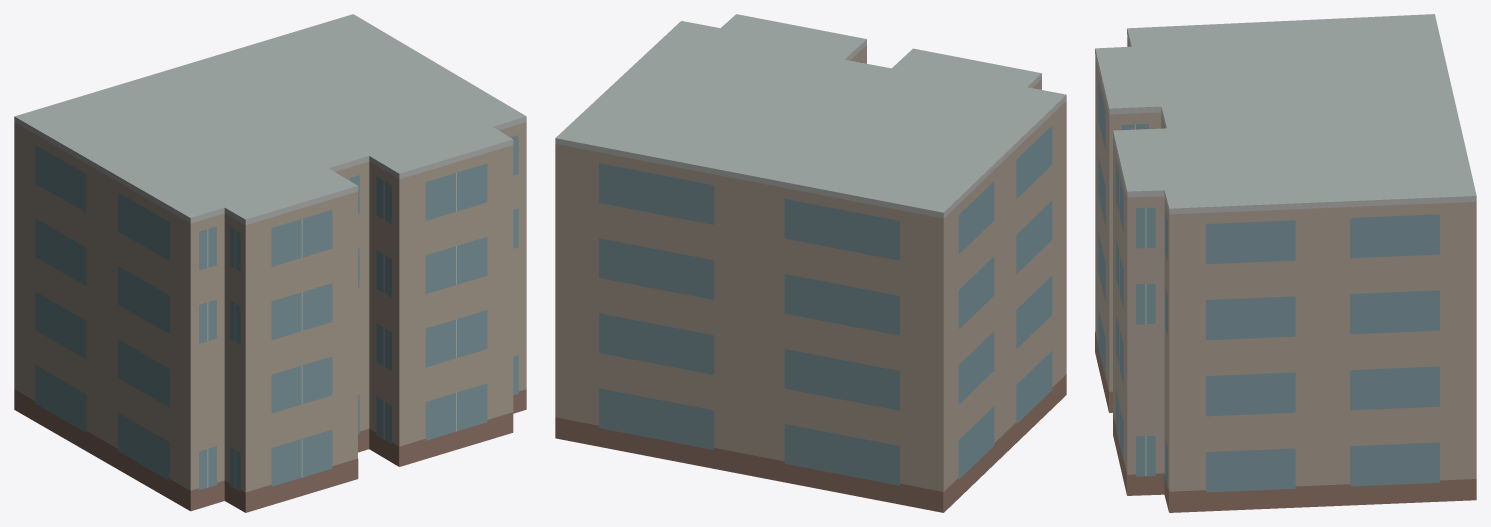
File: survey-upis-32661368.glb
The picture shows the model from 3 angles, left to right: view 1: azimuth 30°, elevation 25°; view 2: azimuth 150°, elevation 25°; view 3: azimuth 270°, elevation 25°; orthographic projection. The views are drawn at different scales.
Visible parts, largest first — view 1: survey-upis-32661368.tmp; view 2: survey-upis-32661368.tmp; view 3: survey-upis-32661368.tmp.
Boxes of the visible parts, bbox=[...] form: survey-upis-32661368.tmp: bbox=[14, 14, 526, 512]; survey-upis-32661368.tmp: bbox=[555, 14, 1066, 512]; survey-upis-32661368.tmp: bbox=[1095, 14, 1476, 512].
Bounding box in the file's own units: 17.46 × 12.72 × 14.47.
